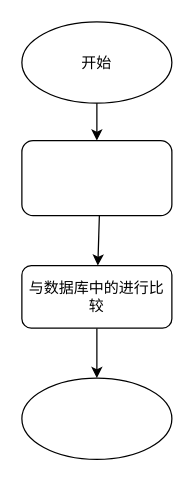
The diagram is 194 pixels wide and 481 high, and some of its shapes have lost their labels. The shapes that lost their labels are listed below. From the top down, each one's centre as x and y in pixels, then its label:
At point 96,177: "进行MD5加密".
At point 96,418: "登陆成功".
